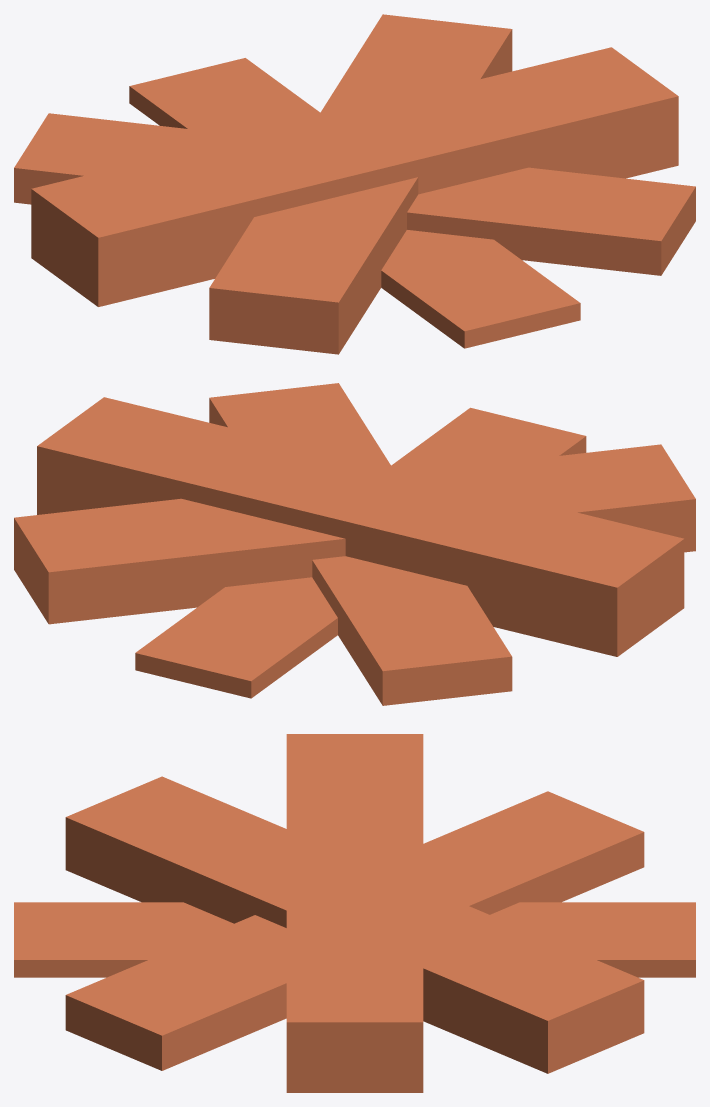
Rendered from campfire_planks.obj.
The picture shows the model from 3 angles, top to bottom: view 1: azimuth 30°, elevation 25°; view 2: azimuth 150°, elevation 25°; view 3: azimuth 270°, elevation 25°; orthographic projection.
Visible parts, largest first — view 1: campfire_planks; view 2: campfire_planks; view 3: campfire_planks.
Boxes of the visible parts, x1,y1,x2,y2 form: campfire_planks: (14,14,695,354); campfire_planks: (14,383,695,705); campfire_planks: (14,734,695,1092).
Size of the model in its own units: 0.35 by 0.04 by 0.35.
